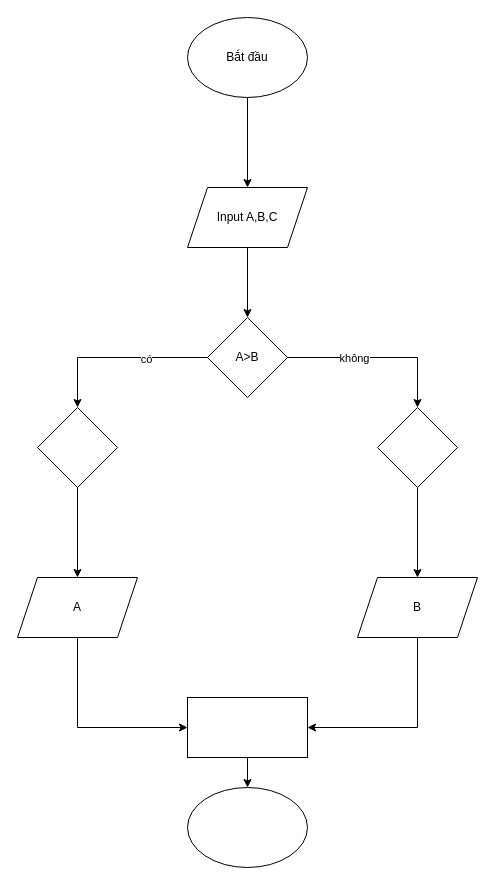
Some shapes in this 495 by 885 pixel diagram are drawn without their labels. The shapes that lost their labels are listed below. From the top down, each one's centre as x and y in pixels, then its label:
the point at 77,447: A>C
the point at 417,447: B>C
the point at 247,727: Print largest
